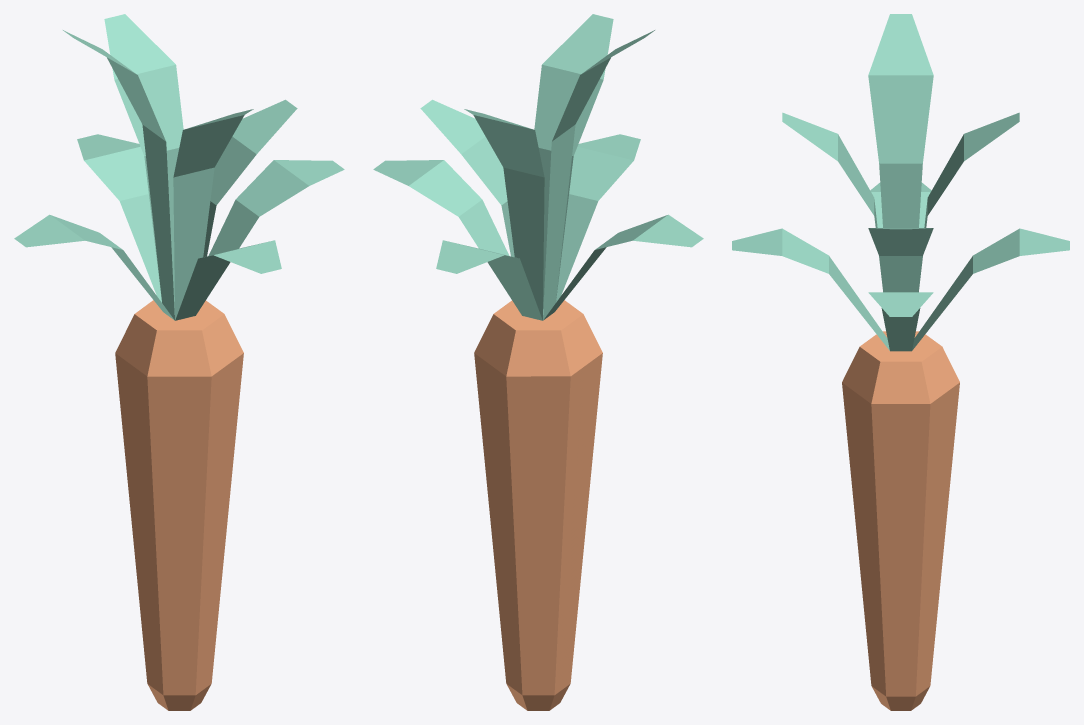
The model's file is carrot.gltf.
3 renders of one model, left to right at view 1: azimuth 30°, elevation 25°; view 2: azimuth 150°, elevation 25°; view 3: azimuth 270°, elevation 25°, orthographic. The views are drawn at different scales.
Parts seen in each view (by area): view 1: carrot; view 2: carrot; view 3: carrot.
Boxes of the visible parts, x1,y1,x2,y2 form: carrot: (14,14,344,710); carrot: (373,14,703,710); carrot: (732,14,1069,710).
Bounding box in the file's own units: 1.37 × 2.87 × 1.37.
